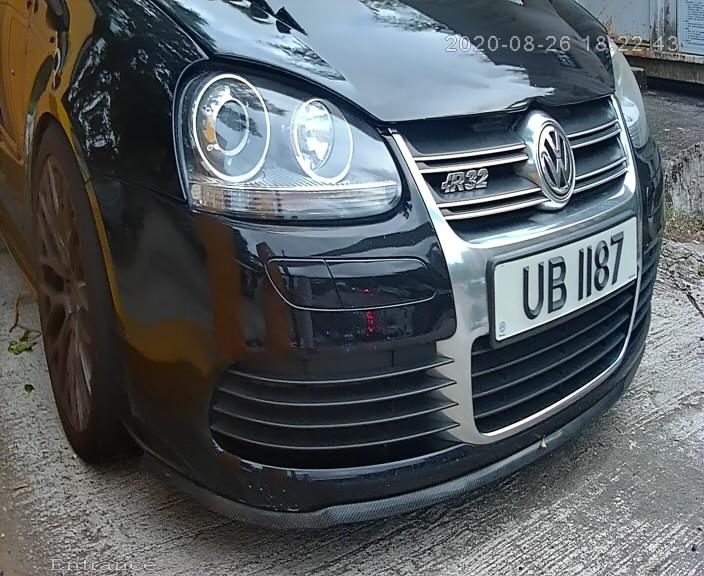Car: (16, 1, 704, 528)
License Plate: (484, 205, 651, 348)
